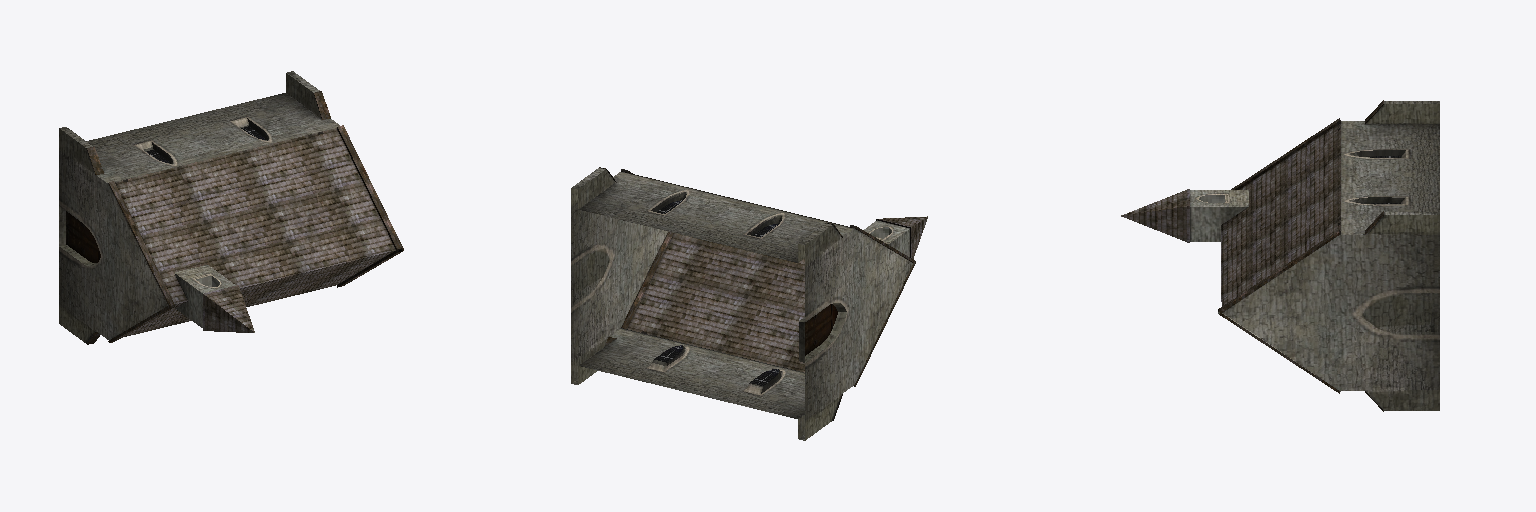
3 renders of one model, left to right at view 1: azimuth 30°, elevation 25°; view 2: azimuth 150°, elevation 25°; view 3: azimuth 270°, elevation 25°, orthographic.
Visible parts, largest first — view 1: Chapel; view 2: Chapel; view 3: Chapel.
Part boxes in pixels (x1,y1,x2,y2): Chapel: (59,71,403,344); Chapel: (571,167,927,440); Chapel: (1121,100,1439,411).
Bounding box in the file's own units: 1152 × 919 × 1356.
1 materials, 1 textured.